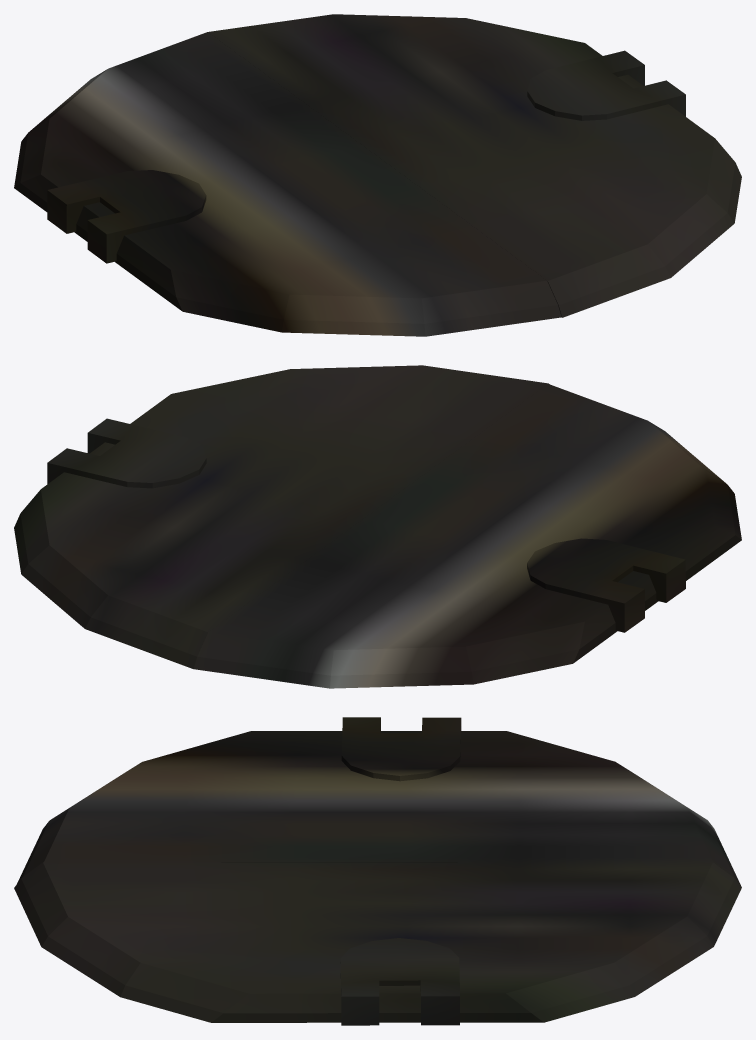
Rendered from pz4_turret_m4.obj.
The picture shows the model from 3 angles, top to bottom: view 1: azimuth 30°, elevation 25°; view 2: azimuth 150°, elevation 25°; view 3: azimuth 270°, elevation 25°; orthographic projection.
Visible parts, largest first — view 1: pz4_turret_m4; view 2: pz4_turret_m4; view 3: pz4_turret_m4.
Boxes of the visible parts, x1=… form: pz4_turret_m4: x1=14, y1=14, x2=741, y2=336; pz4_turret_m4: x1=14, y1=365, x2=741, y2=688; pz4_turret_m4: x1=14, y1=717, x2=741, y2=1025.
Size of the model in its own units: 0.6081 by 0.0326 by 0.6719.
Materials: 1 (1 with a texture image).
